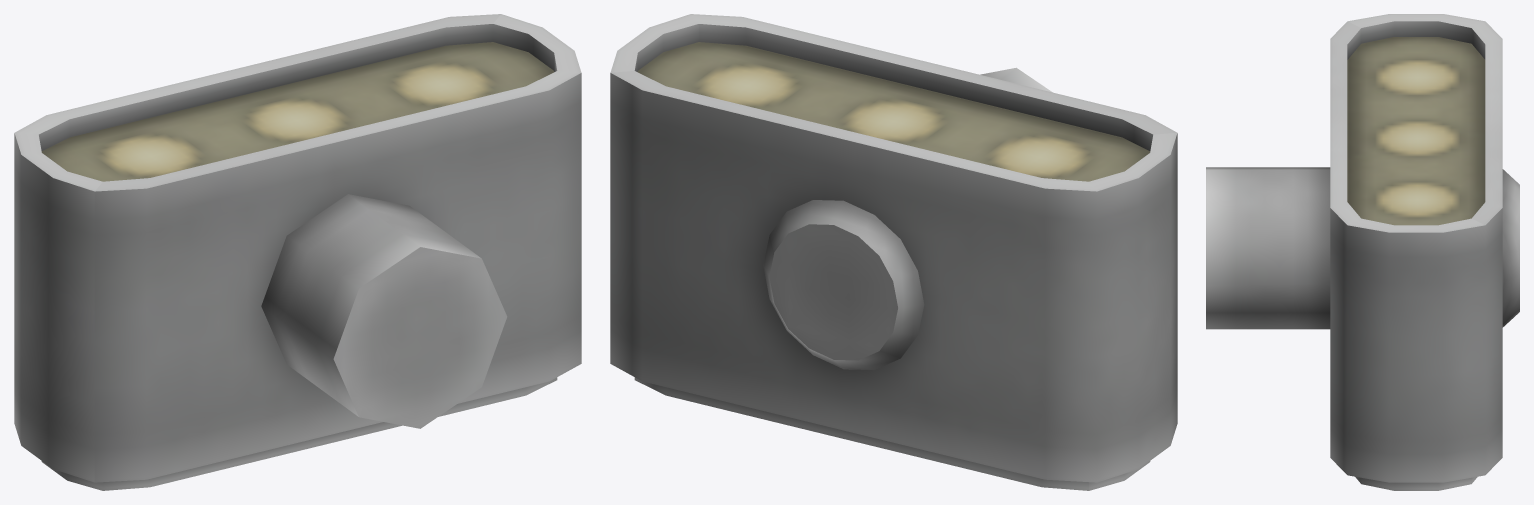
File: Tantares_Light_1.obj
3 views of the same model, side by side, from view 1: azimuth 30°, elevation 25°; view 2: azimuth 150°, elevation 25°; view 3: azimuth 270°, elevation 25° (orthographic). The views are drawn at different scales.
Visible parts, largest first — view 1: Tantares_Light_1, Tantares_Light_1_Light; view 2: Tantares_Light_1, Tantares_Light_1_Light; view 3: Tantares_Light_1, Tantares_Light_1_Light.
Part boxes in pixels (x1,y1,x2,y2): Tantares_Light_1: (14,14,581,490); Tantares_Light_1_Light: (41,42,554,181); Tantares_Light_1: (610,14,1177,490); Tantares_Light_1_Light: (637,42,1150,181); Tantares_Light_1: (1206,14,1519,490); Tantares_Light_1_Light: (1347,37,1485,225).
Bounding box in the file's own units: 0.1875 × 0.1062 × 0.1138.
